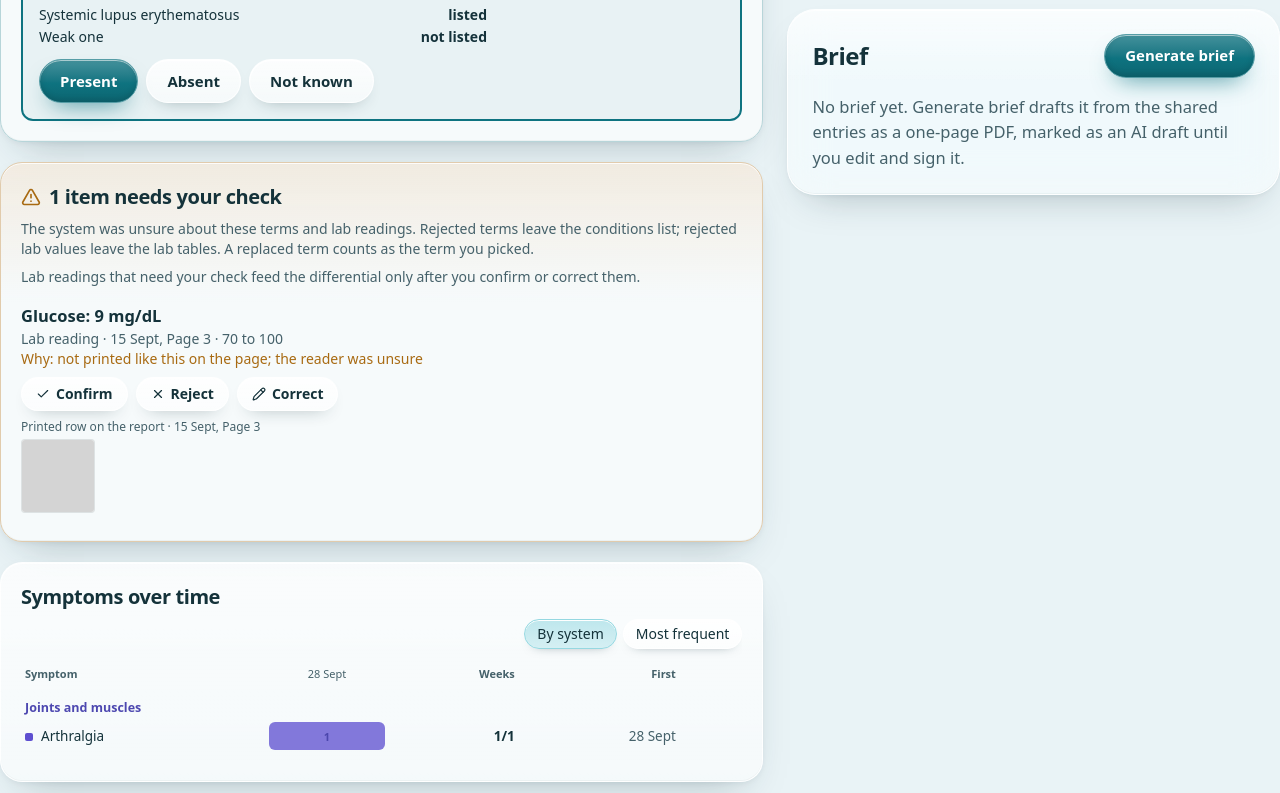
Test: clinic package page › shows where an OCR reading came from and lets the clinician correct it; the ranking is fetched again
(page scrolled)
expect the text "Glucose: 9 mg/dL" is shown: met, box [21,304,161,327]
expect the text with test id "lab-why" shows "not printed like this on the page; the reader was unsure": met, box [21,349,423,368]
Click the button "Correct" at point(288, 394), box [237,377,338,411]
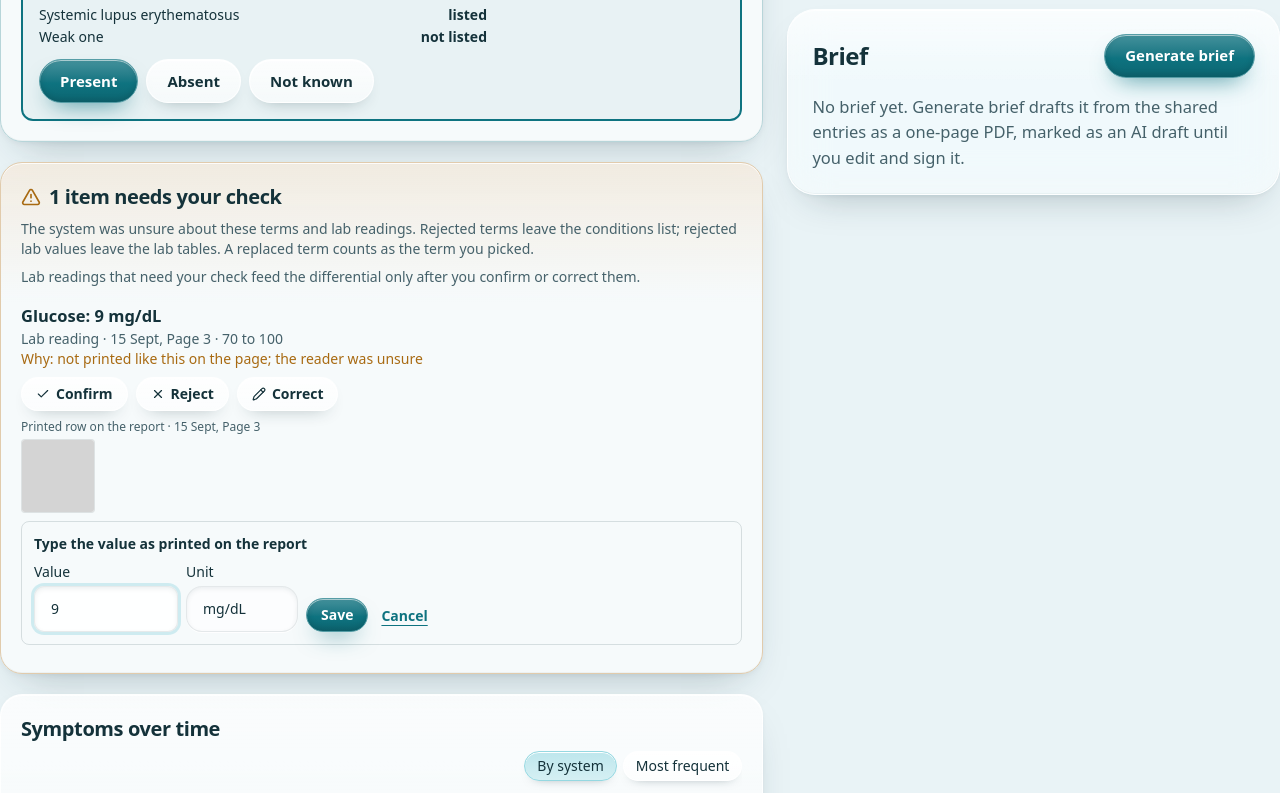
Replace the text in the field labelled "Value" with "90" at point(106, 609), box [34,586,178,632]
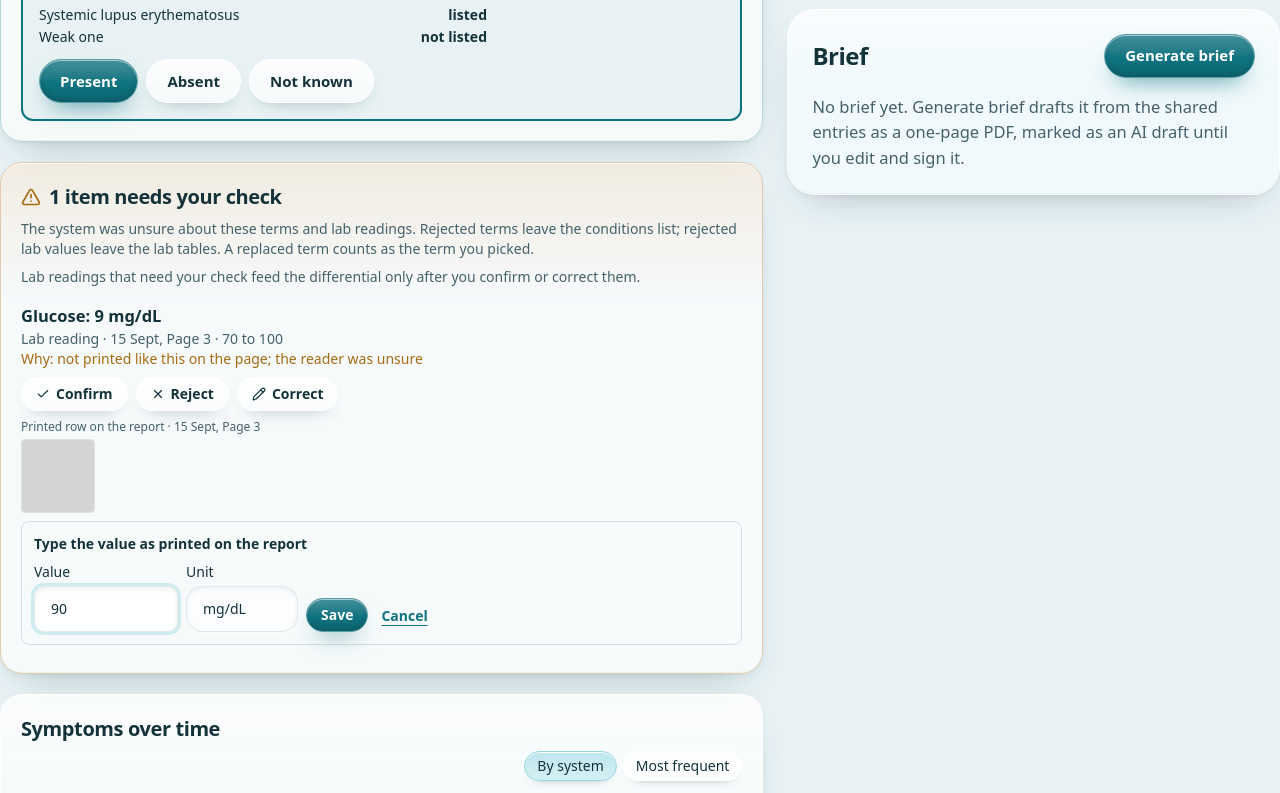
Click the button "Save" at point(337, 615), box [306,598,368,632]
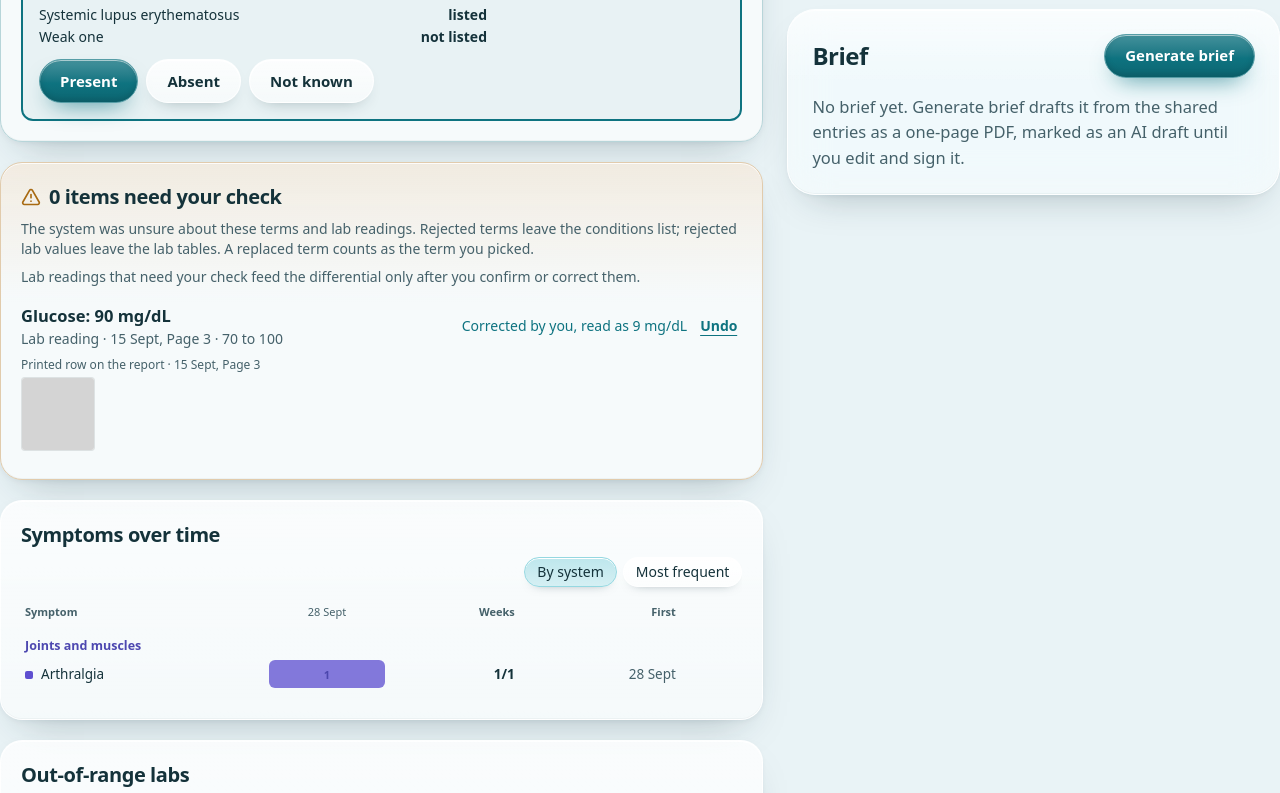
expect the text "Corrected by you, read as 9 mg/dL" is shown: met, box [462,316,687,336]
expect the text "Glucose: 90 mg/dL" is shown: met, box [21,304,171,327]
